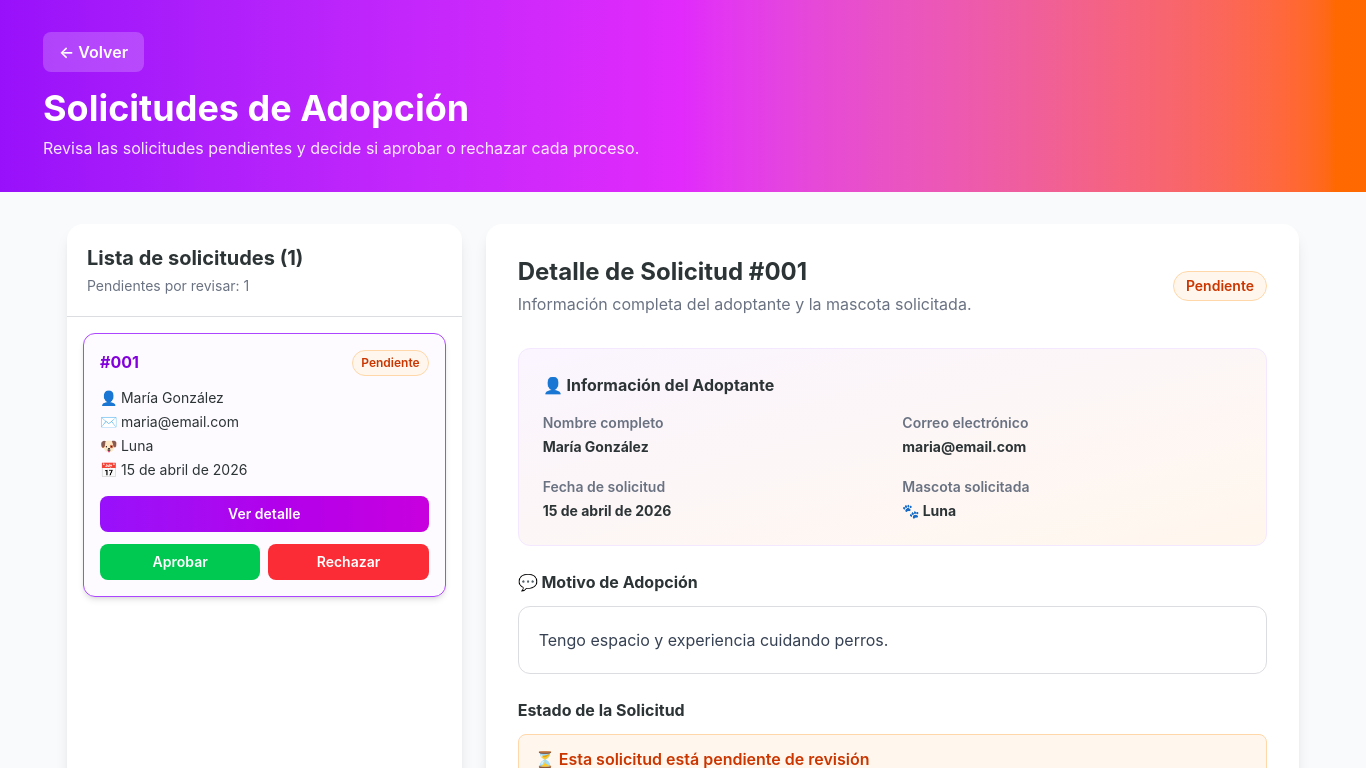
ManageAdoptionRequestsScreen › rejects a request from the sidebar button
This screenshot has width=1366, height=768.
Expected: the heading "Detalle de Solicitud #001" is shown, x1=518 y1=257 x2=807 y2=286
The sidebar reject button
Click the button "Rechazar" at x=348, y=562, box x1=268 y1=544 x2=429 y2=580
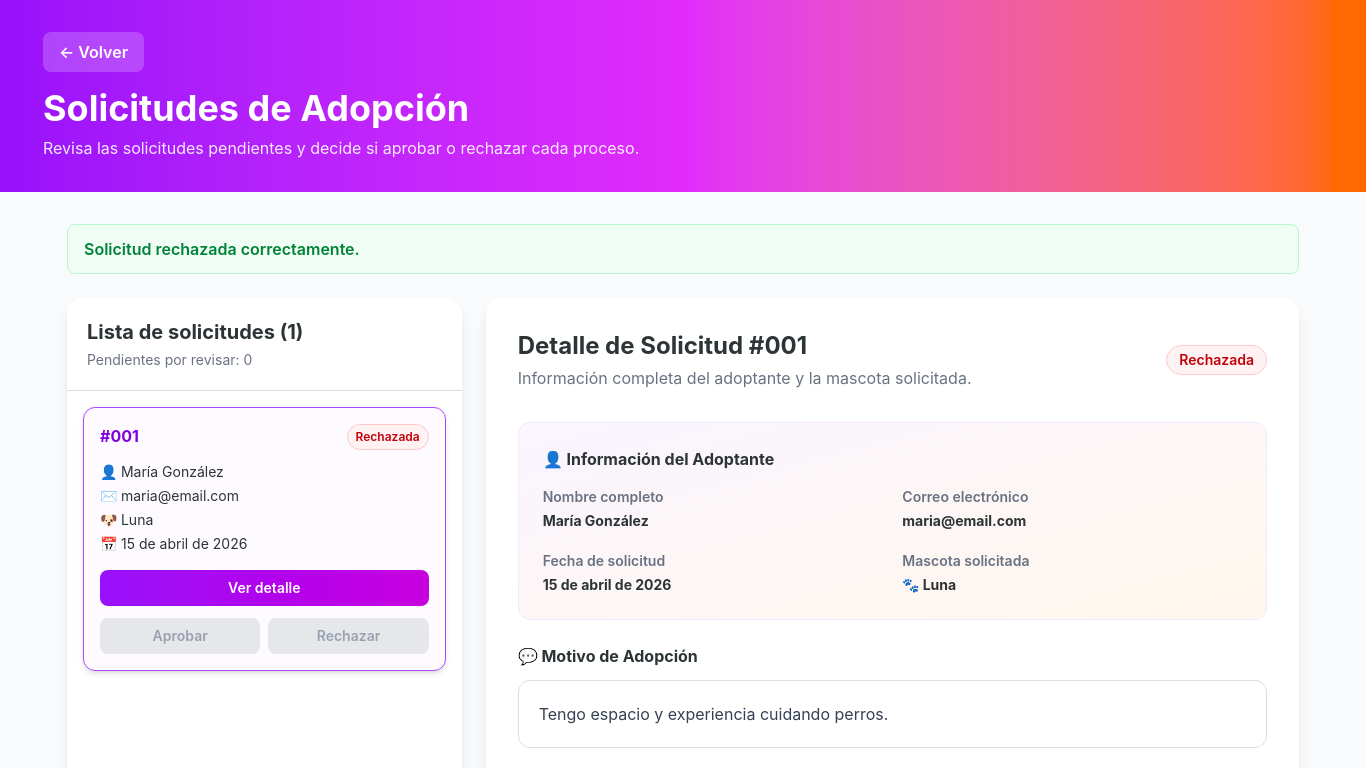
Now the text "Solicitud rechazada correctamente." is shown, box x1=67 y1=224 x2=1299 y2=274
